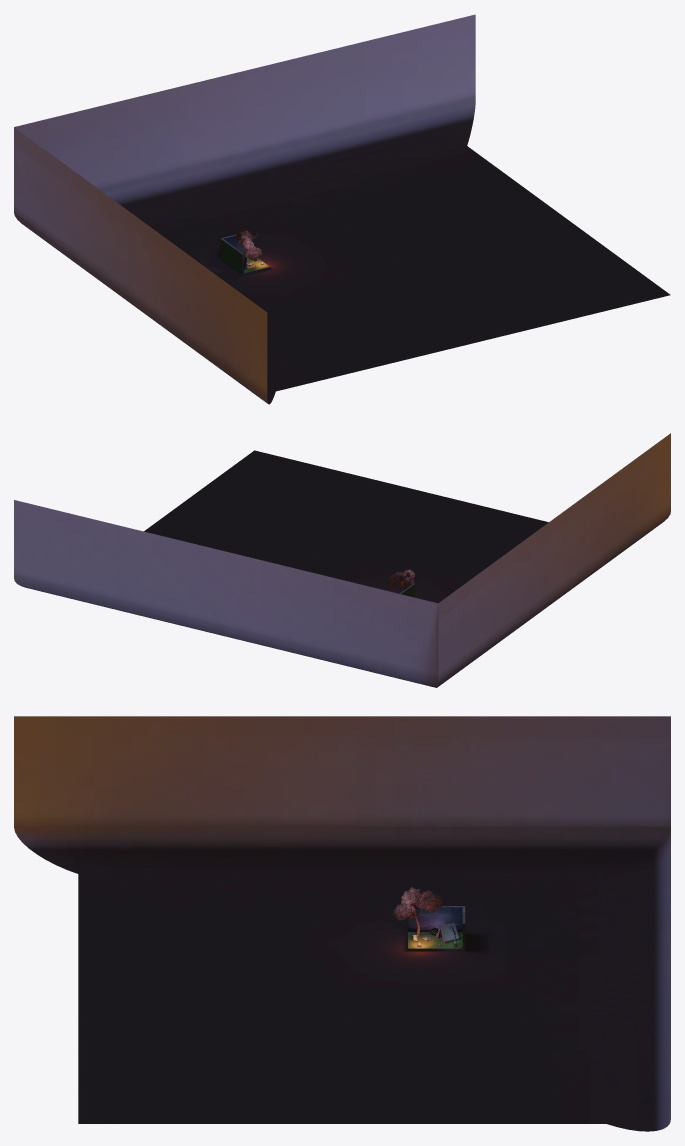
The model's file is m-toilet-transformed.glb.
The picture shows the model from 3 angles, top to bottom: view 1: azimuth 30°, elevation 25°; view 2: azimuth 150°, elevation 25°; view 3: azimuth 270°, elevation 25°; orthographic projection. The views are drawn at different scales.
Visible parts, largest first — view 1: MT-Set3; view 2: MT-Set3, Maple Tree; view 3: MT-Set3, Maple Tree.
Boxes of the visible parts, left/top/right/bottom form: MT-Set3: left=14, top=14, right=670, bottom=404; MT-Set3: left=14, top=433, right=670, bottom=687; Maple Tree: left=388, top=569, right=415, bottom=589; MT-Set3: left=14, top=716, right=670, bottom=1131; Maple Tree: left=393, top=886, right=442, bottom=935.
Bounding box in the file's own units: 97.21 × 21.18 × 92.35.
5 materials, 5 textured.
